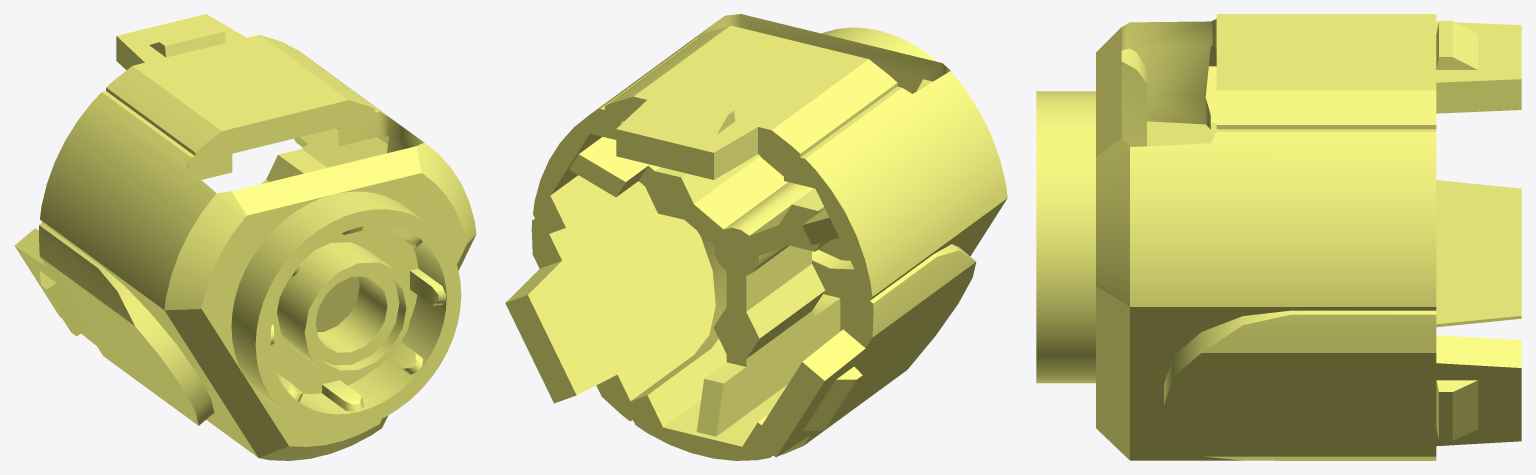
3 views of the same model, side by side, from view 1: azimuth 30°, elevation 25°; view 2: azimuth 150°, elevation 25°; view 3: azimuth 270°, elevation 25° (orthographic). The views are drawn at different scales.
Visible parts, largest first — view 1: 65414.dat; view 2: 65414.dat; view 3: 65414.dat.
Boxes of the visible parts, <box> form: 65414.dat: <box>14,14,476,460</box>; 65414.dat: <box>505,14,1007,460</box>; 65414.dat: <box>1036,14,1521,460</box>.
Bounding box in the file's own units: 0.021 × 0.0208 × 0.0228.
